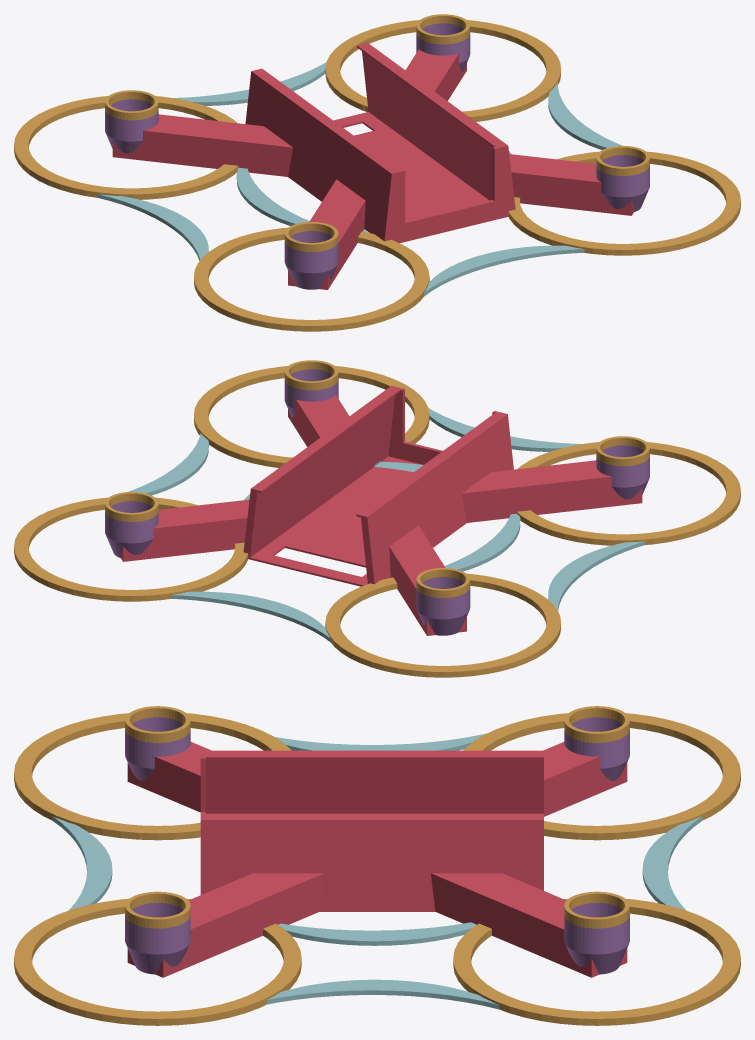
File: sp1_tinkercad.glb
3 renders of one model, top to bottom at view 1: azimuth 30°, elevation 25°; view 2: azimuth 150°, elevation 25°; view 3: azimuth 270°, elevation 25°, orthographic. The views are drawn at different scales.
Visible parts, largest first — view 1: Mesh_Mesh_head_geo.001_lambert2SG.001; view 2: Mesh_Mesh_head_geo.001_lambert2SG.001; view 3: Mesh_Mesh_head_geo.001_lambert2SG.001.
Boxes of the visible parts, bbox=[...] form: Mesh_Mesh_head_geo.001_lambert2SG.001: bbox=[14, 14, 740, 331]; Mesh_Mesh_head_geo.001_lambert2SG.001: bbox=[14, 360, 740, 677]; Mesh_Mesh_head_geo.001_lambert2SG.001: bbox=[14, 706, 740, 1025].
Size of the model in its own units: 144 by 19 by 144.
